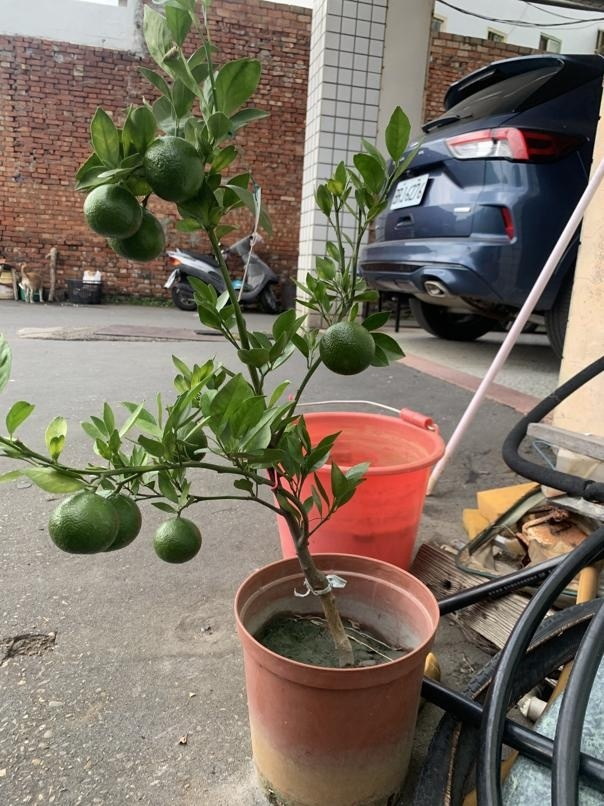Tangerine: (49, 486, 136, 560), (142, 135, 206, 201), (81, 184, 146, 241), (315, 319, 377, 377), (150, 510, 203, 566)
